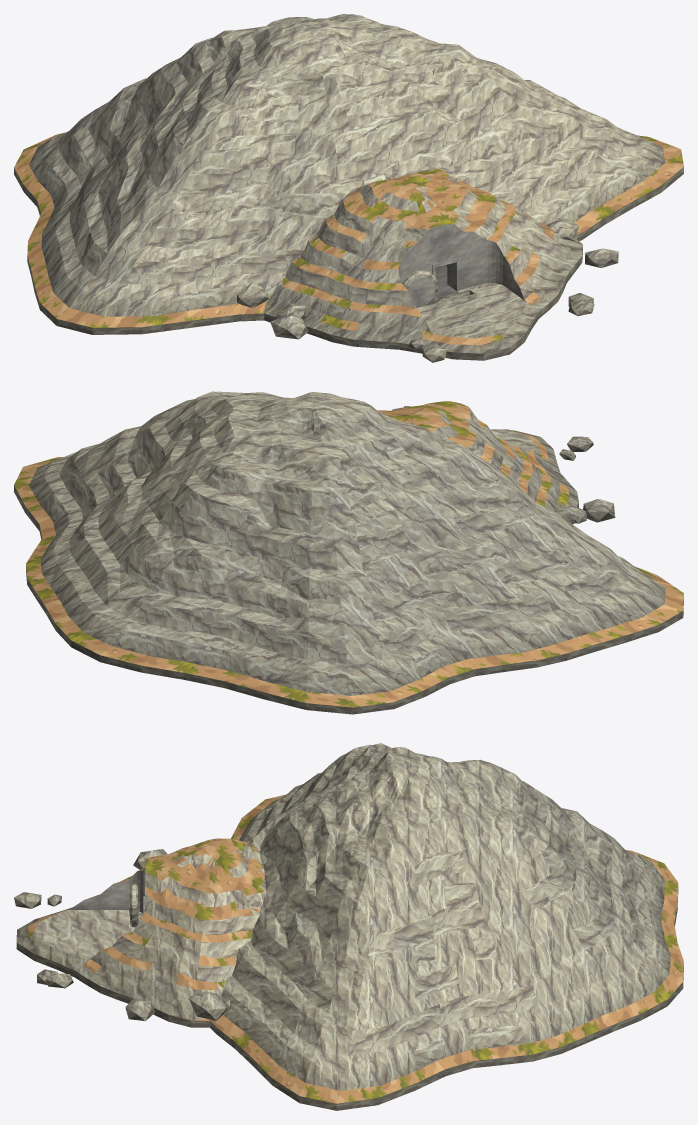
Rendered from tumulo.glb.
3 views of the same model, one above another, from view 1: azimuth 30°, elevation 25°; view 2: azimuth 150°, elevation 25°; view 3: azimuth 270°, elevation 25° (orthographic).
Visible parts, largest first — view 1: Tumulo_Massa_Monte, Tumulo_Massa_Grama, Tumulo_Patio, Rochas_Soltas, Tumulo_Pedra, Tumulo_Interior; view 2: Tumulo_Massa_Monte, Tumulo_Massa_Grama, Rochas_Soltas, Tumulo_Patio; view 3: Tumulo_Massa_Monte, Tumulo_Massa_Grama, Tumulo_Patio, Rochas_Soltas.
Part boxes in pixels (x1,y1,x2,y2): Tumulo_Massa_Monte: (14, 14, 683, 342); Tumulo_Massa_Grama: (264, 168, 582, 360); Tumulo_Patio: (417, 283, 525, 338); Rochas_Soltas: (237, 216, 618, 362); Tumulo_Pedra: (402, 270, 438, 307); Tumulo_Interior: (436, 262, 458, 297); Tumulo_Massa_Monte: (14, 391, 683, 714); Tumulo_Massa_Grama: (377, 401, 578, 524); Rochas_Soltas: (392, 406, 615, 523); Tumulo_Patio: (490, 429, 540, 454); Tumulo_Massa_Monte: (49, 743, 683, 1110); Tumulo_Massa_Grama: (16, 838, 266, 1027); Tumulo_Patio: (33, 900, 143, 959); Rochas_Soltas: (14, 849, 229, 1021).
Bounding box in the file's own units: 28.73 × 7.84 × 26.
3 materials, 3 textured.
